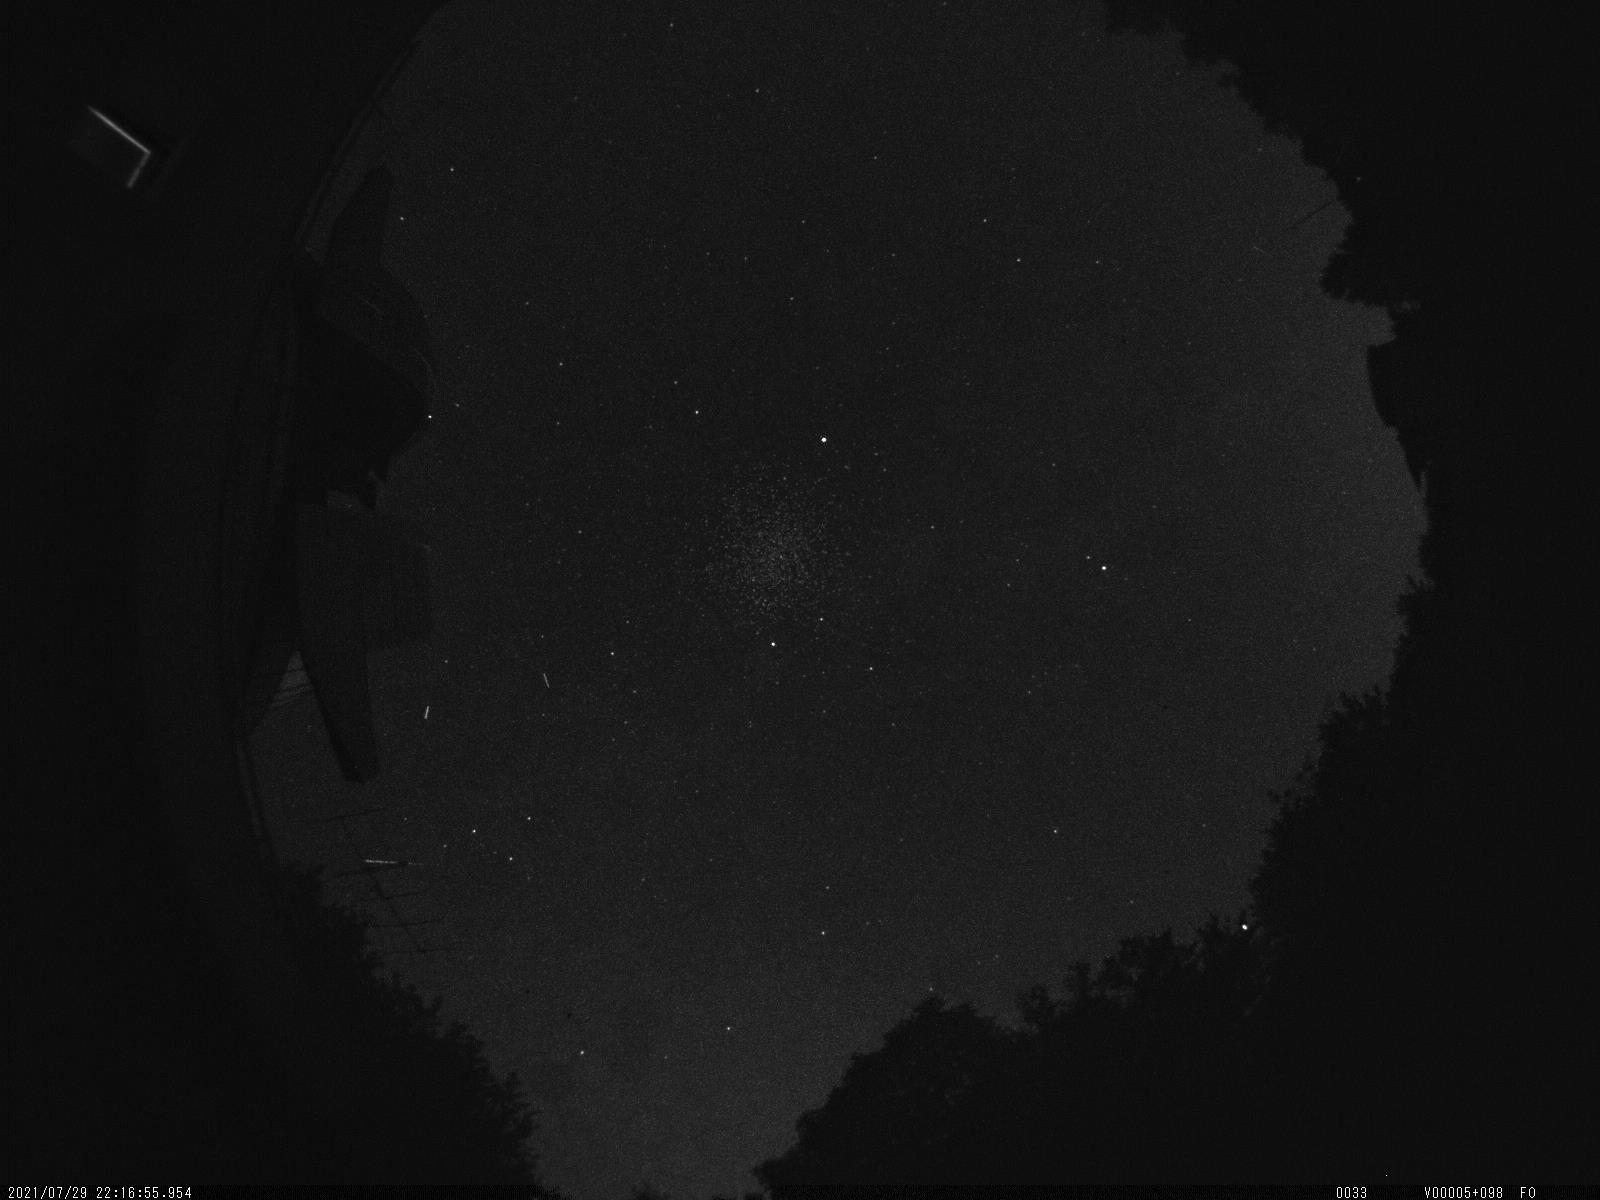Meteor: (417, 694, 434, 726)
